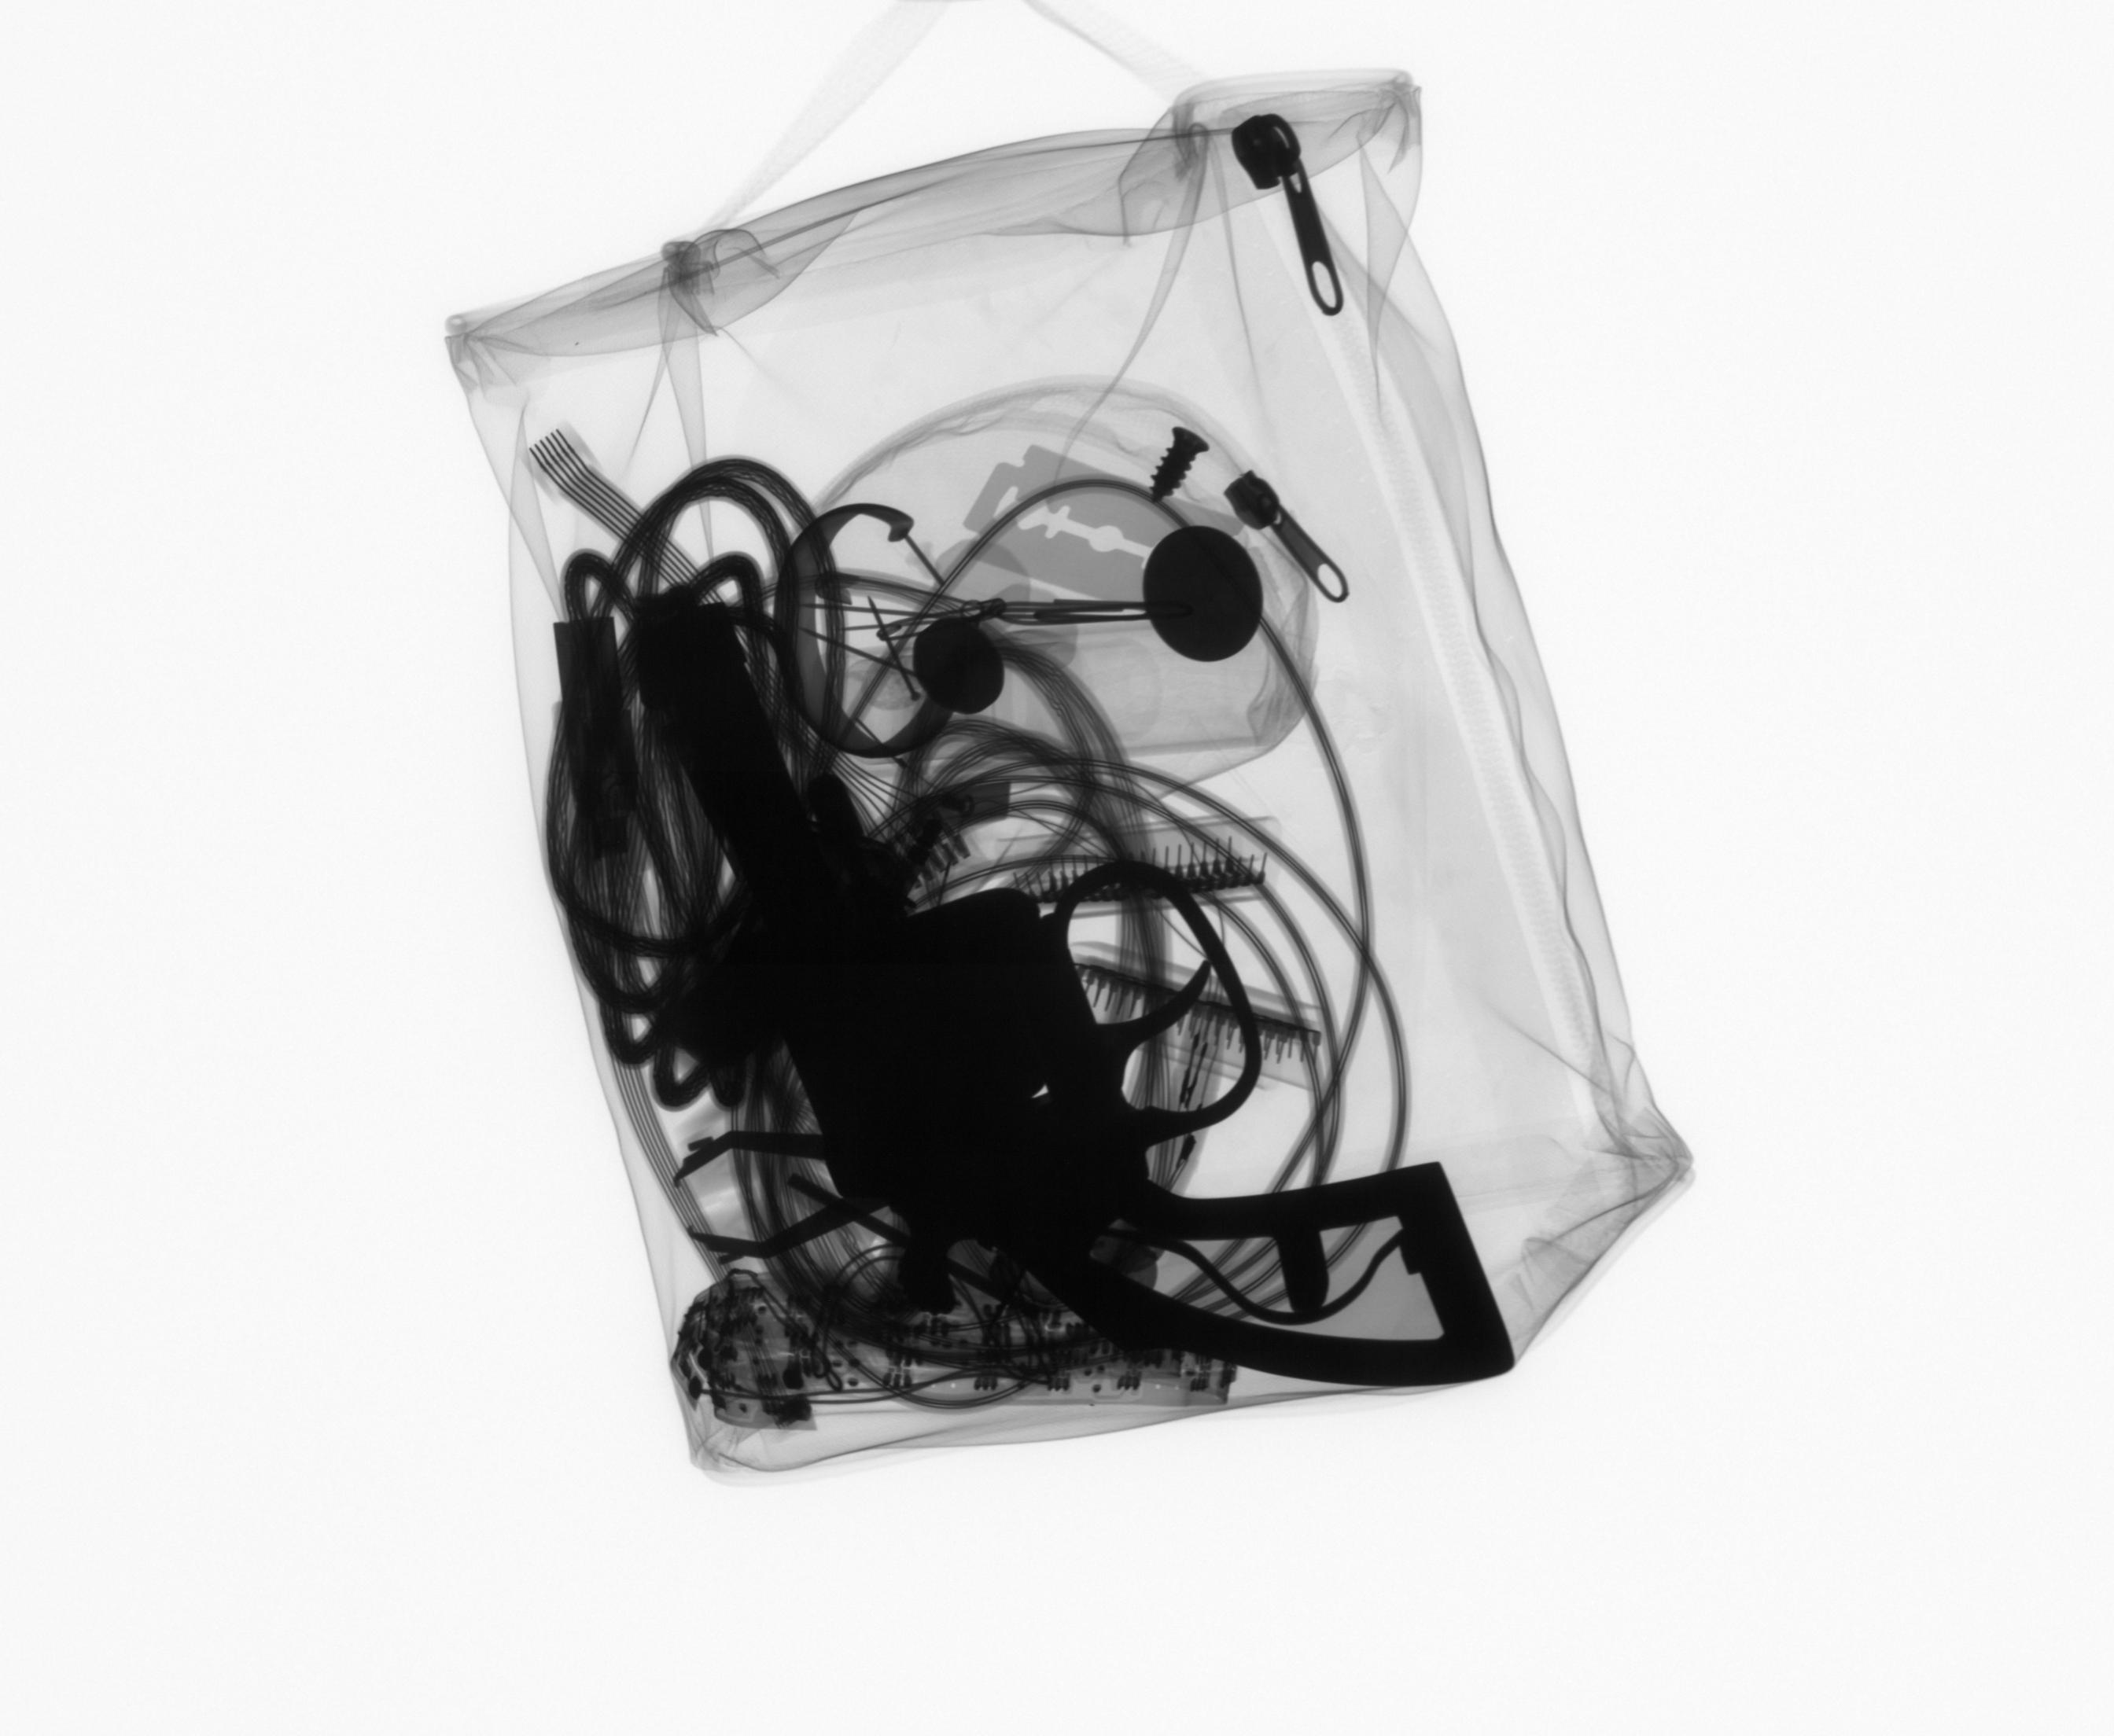Handgun: (637, 590, 1526, 1397)
RazorBlade: (960, 435, 1254, 634)
